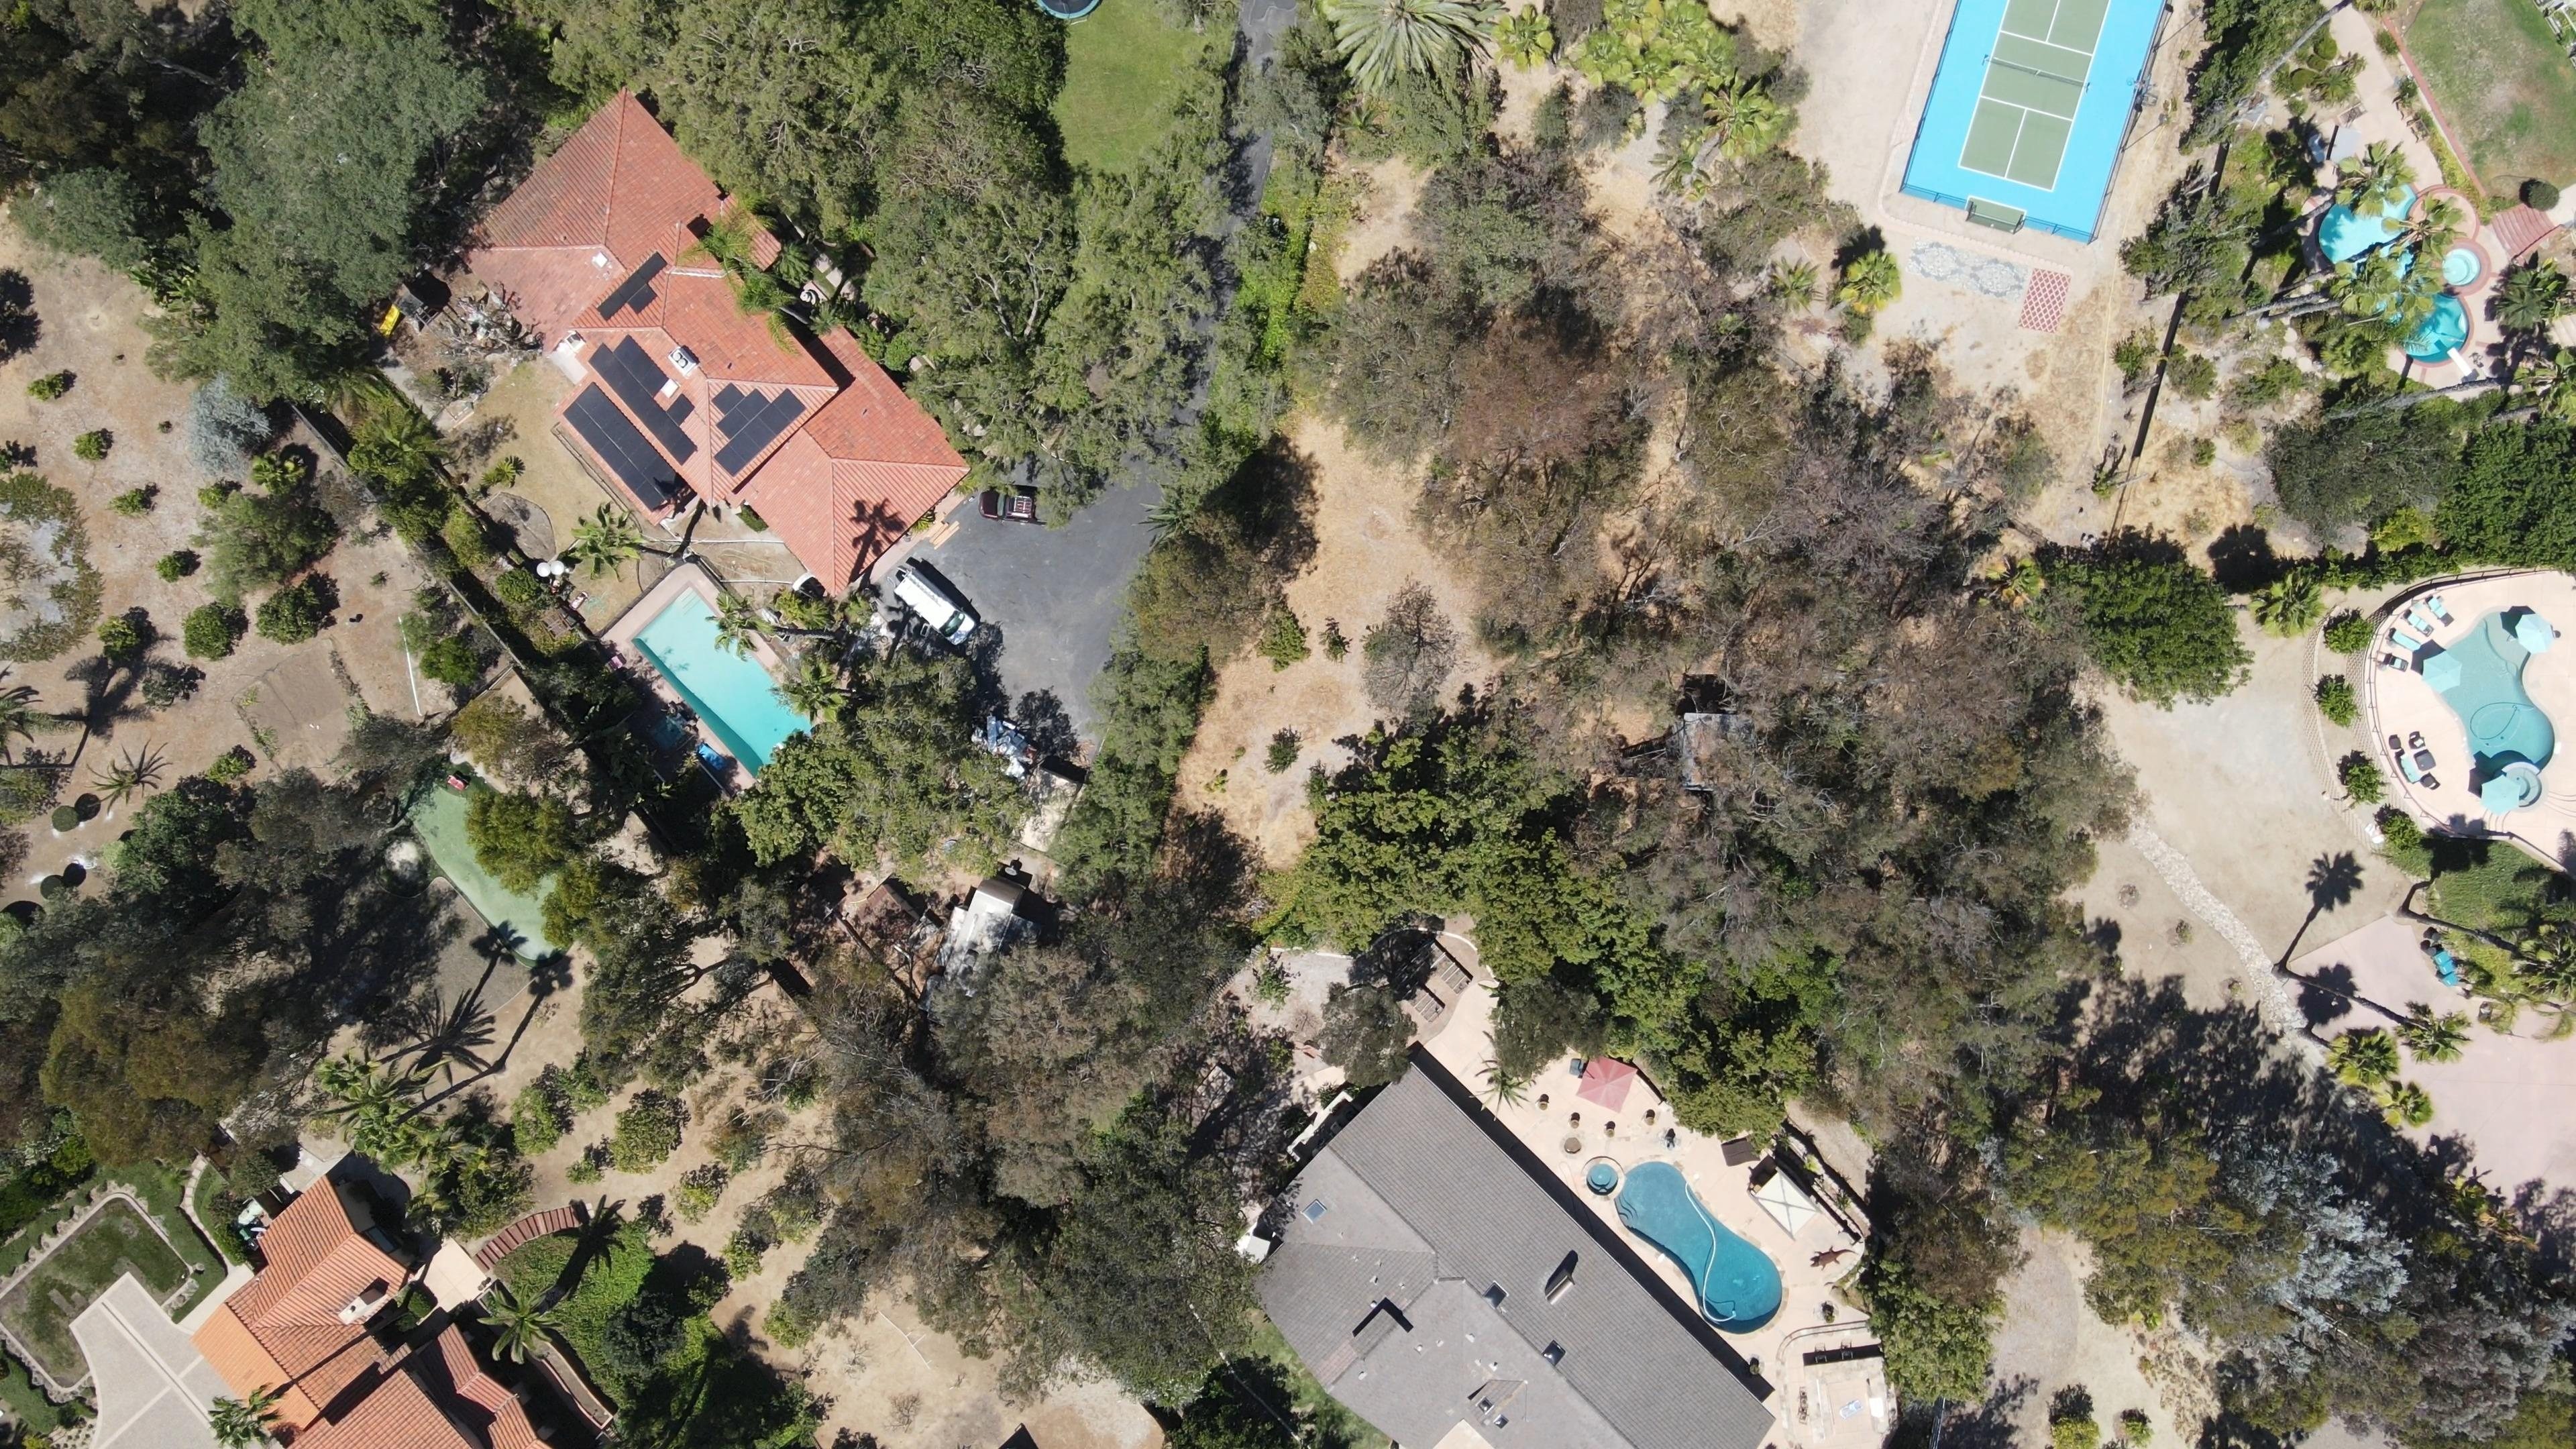panel: (563, 380, 688, 513), (587, 333, 699, 465), (711, 382, 809, 478), (596, 251, 667, 322)
